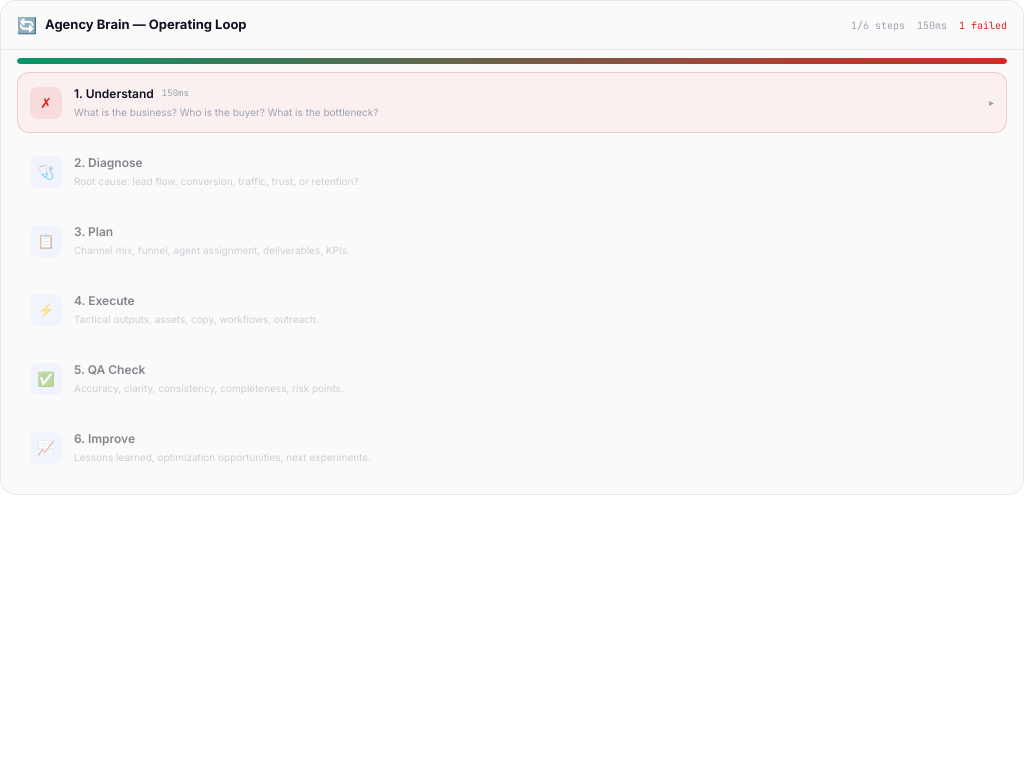
Test: OperatingLoopDashboard › step expand/collapse › shows failed step output with error styling
Click the button "1. Understand". click: [46, 102]
box: [17,72,1007,133]
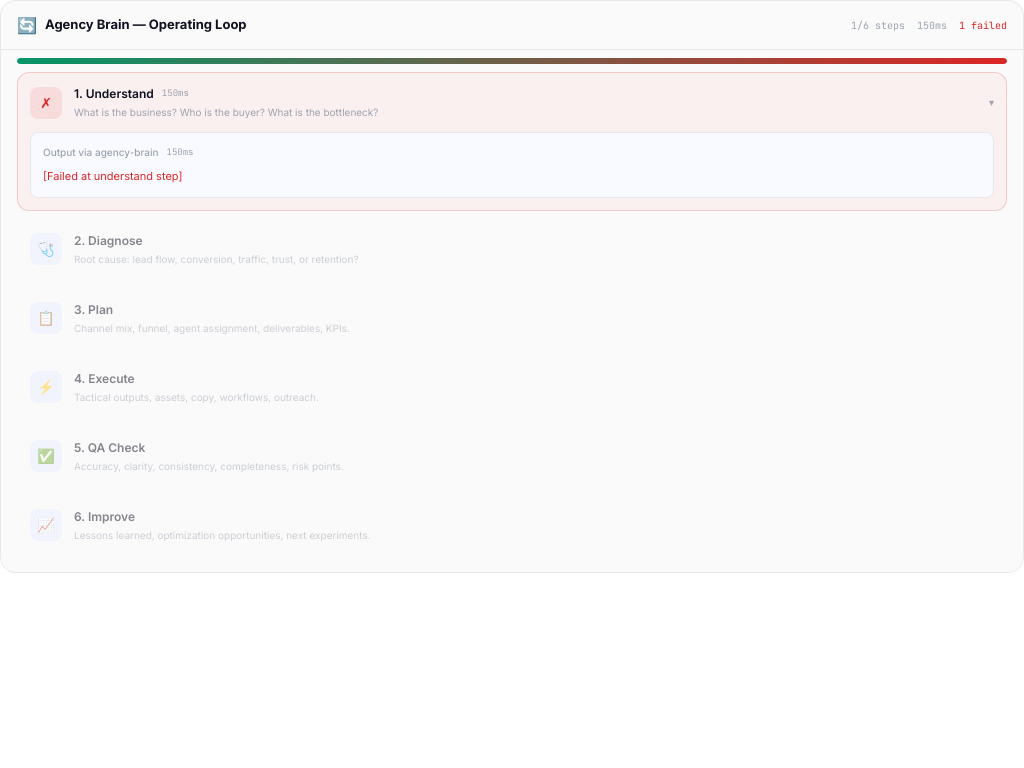
Check: the text "[Failed at understand step]" is shown, box [43,169,182,183]
